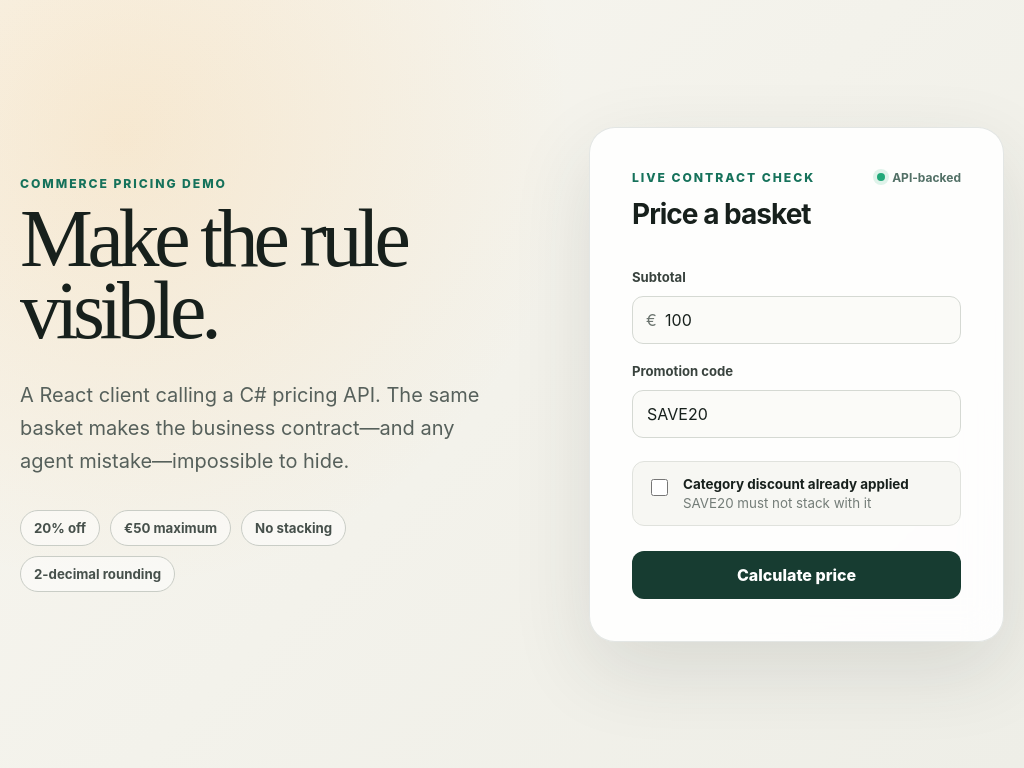
Test case: explains why SAVE20 is not stacked
Click the checkbox labelled "Category discount already applied" at (660, 487), box x1=651 y1=478 x2=668 y2=496
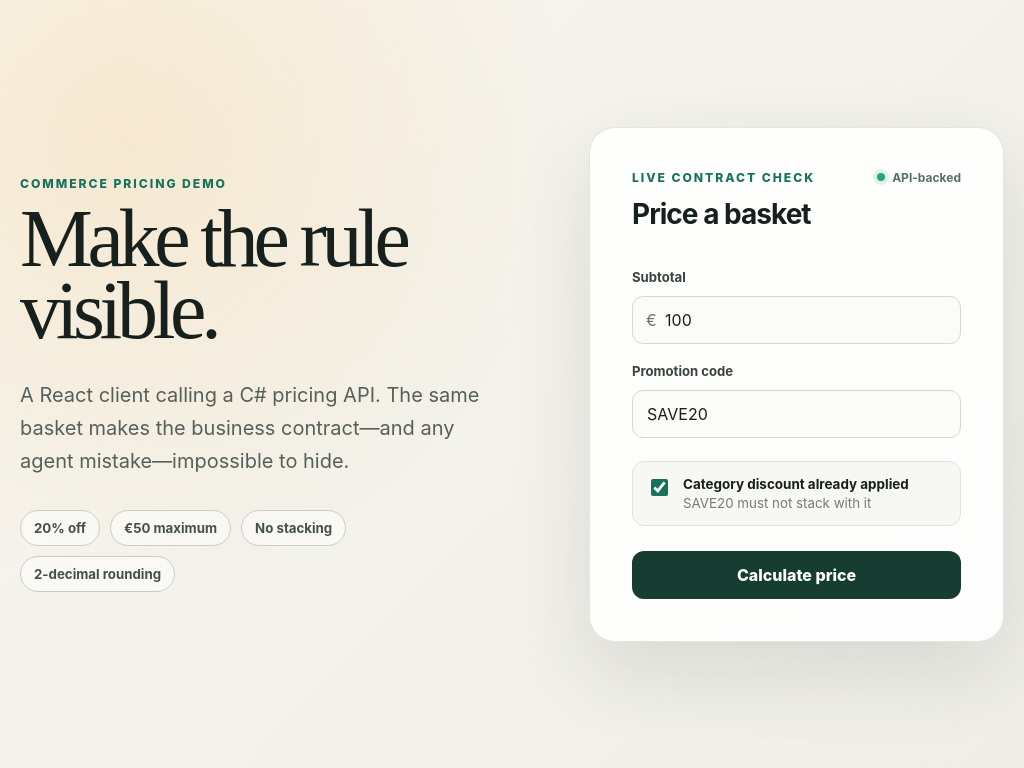
Click the button "Calculate price" at (796, 574), box x1=632 y1=550 x2=961 y2=598
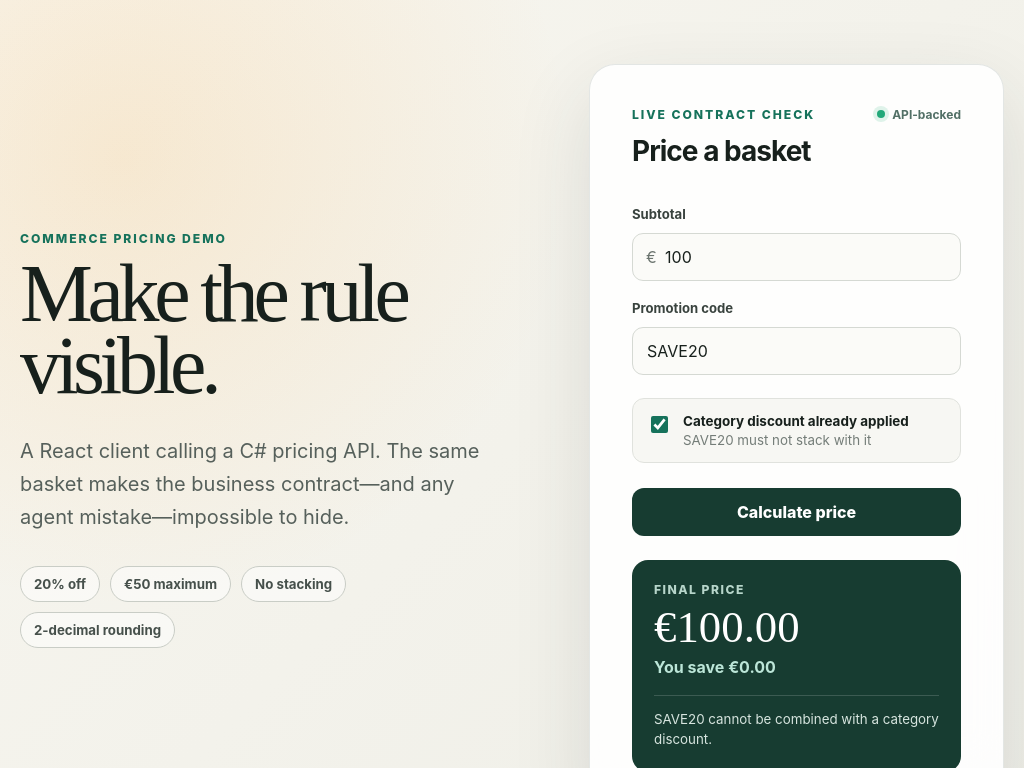
Now the text "€100.00" is shown, box x1=654 y1=602 x2=800 y2=652
Now the text "SAVE20 cannot be combined with a category discount." is shown, box x1=654 y1=710 x2=939 y2=750
